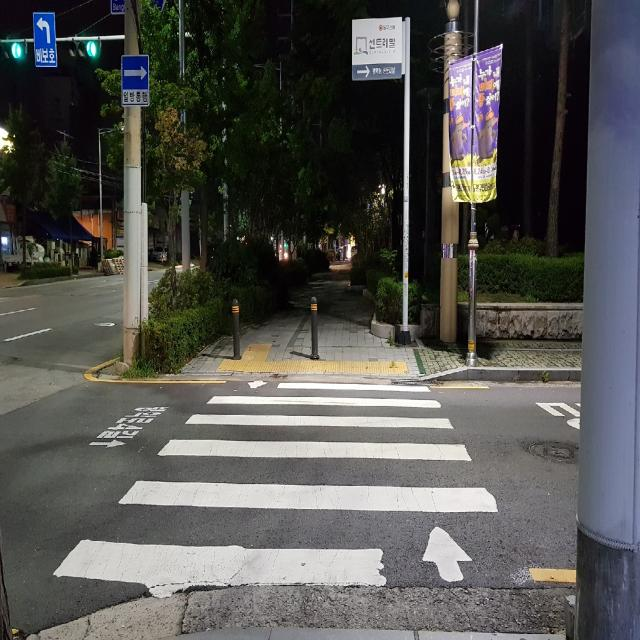횡단보도: (53, 381, 498, 598)
